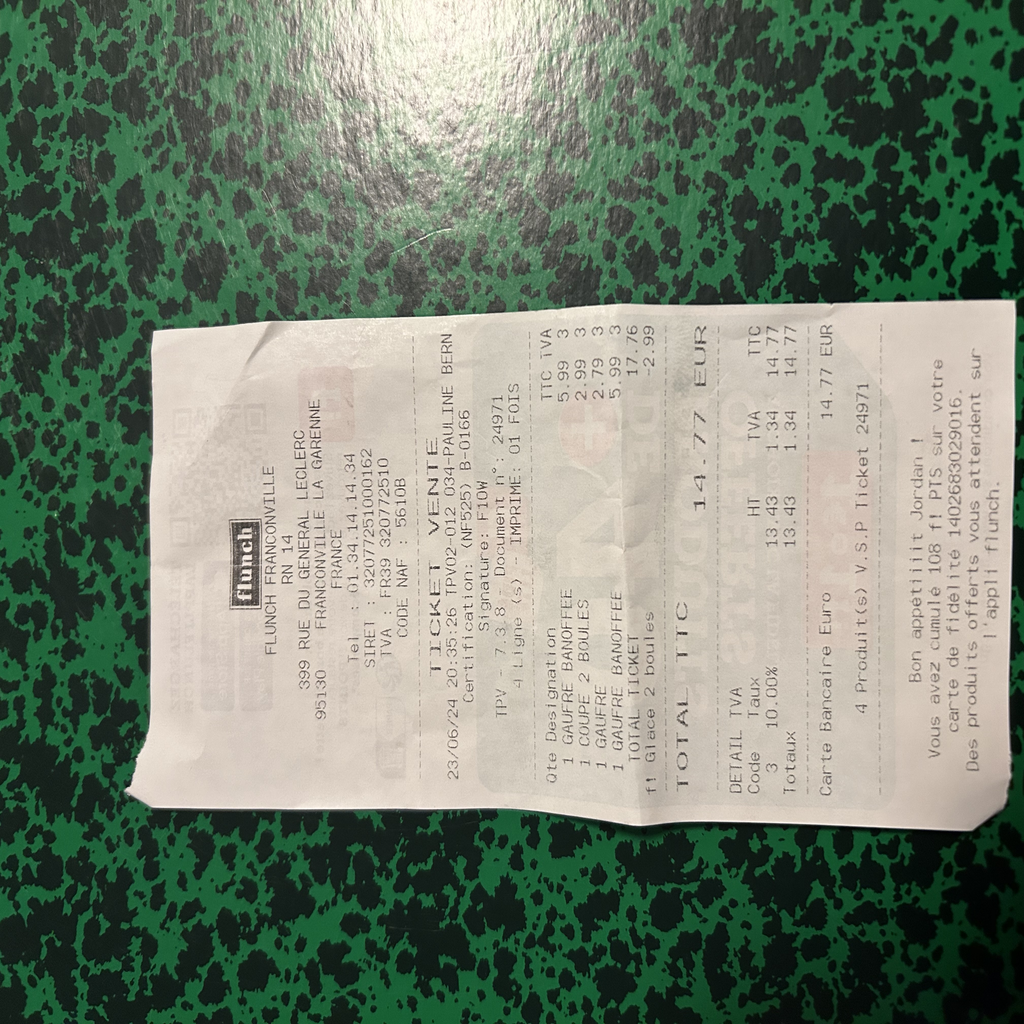recipt: (124, 300, 1014, 833)
